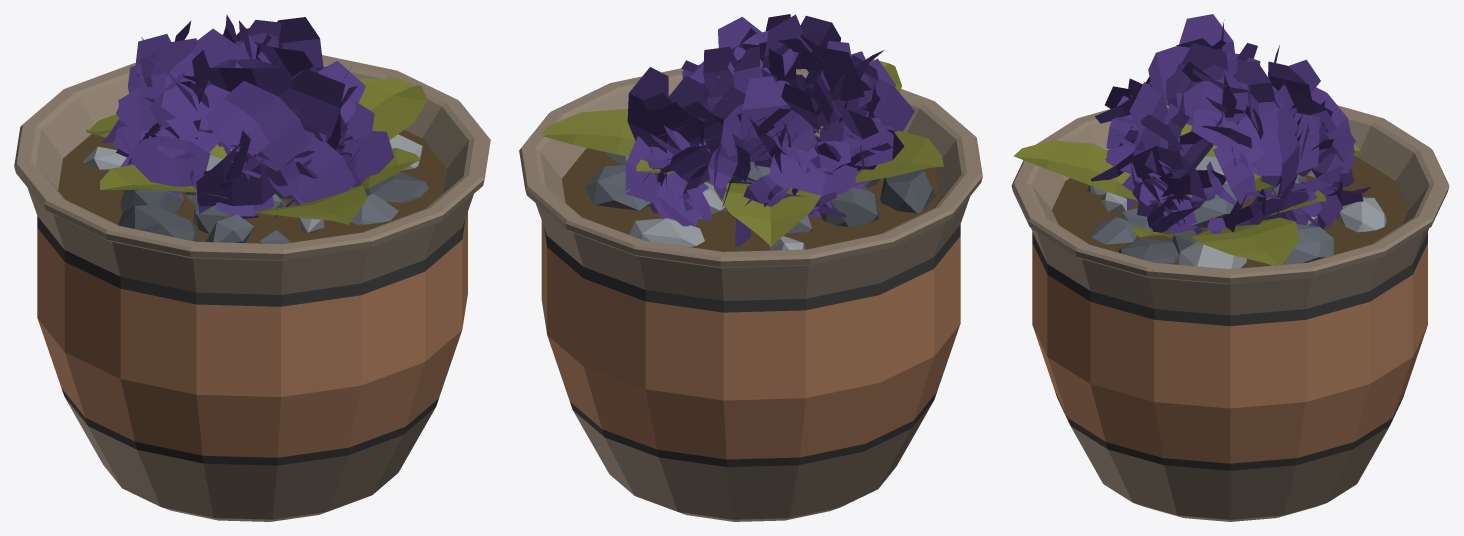
Rendered from PotFlower_2.fbx.
3 renders of one model, left to right at view 1: azimuth 30°, elevation 25°; view 2: azimuth 150°, elevation 25°; view 3: azimuth 270°, elevation 25°, orthographic. The views are drawn at different scales.
Parts seen in each view (by area): view 1: PotFlower_2; view 2: PotFlower_2; view 3: PotFlower_2.
Part boxes in pixels (x1,y1,x2,y2): PotFlower_2: [14, 14, 490, 521]; PotFlower_2: [519, 14, 982, 521]; PotFlower_2: [1011, 14, 1449, 521].
Size of the model in its own units: 62.51 by 65.59 by 62.51.
